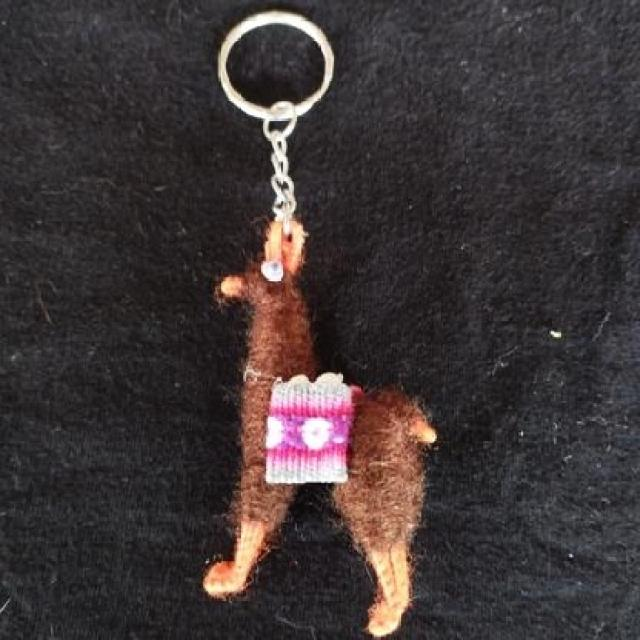Llavero: (200, 215, 438, 639)
